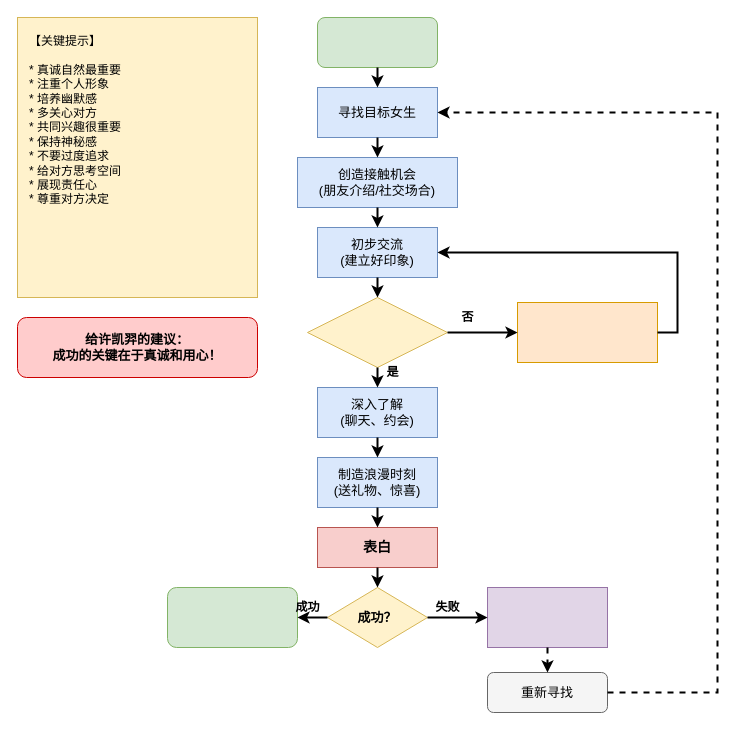
The diagram is 744 pixels wide and 730 high, and some of its shapes have lost their labels. The shapes that lost their labels are listed below. From the top down, each one's box as (x1, y1, x2, y2) in pixels, then its label:
(316, 16, 438, 68): 开始
(306, 296, 448, 368): 对方有好感？
(516, 302, 658, 362): 改进形象和沟通 (提升吸引力)
(166, 586, 298, 648): 开始恋爱 (用心维护感情)
(486, 586, 608, 648): 保持风度 继续做朋友
